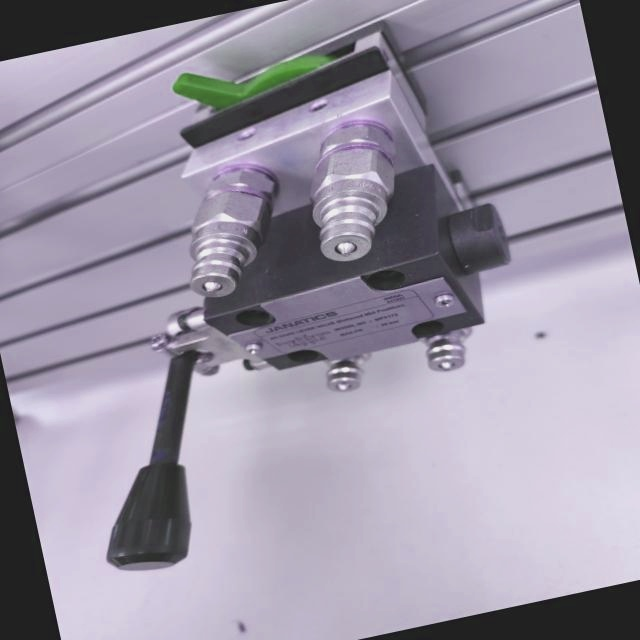4by3 hand lever valve: (0, 0, 574, 594)
